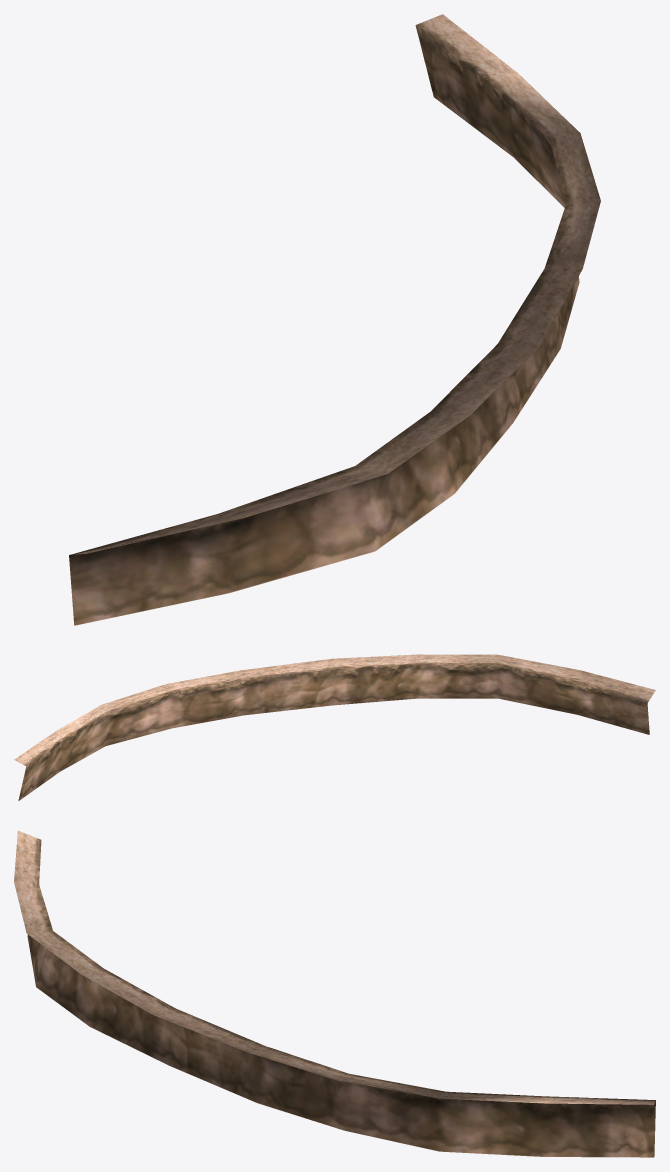
The model's file is EKH_ENTRANCE_PS_EN_EDGEGRAB48474039.fbx.
3 views of the same model, one above another, from view 1: azimuth 30°, elevation 25°; view 2: azimuth 150°, elevation 25°; view 3: azimuth 270°, elevation 25° (orthographic). The views are drawn at different scales.
Visible parts, largest first — view 1: EKH_ENTRANCE_PS_EN_EDGEGRAB48474039; view 2: EKH_ENTRANCE_PS_EN_EDGEGRAB48474039; view 3: EKH_ENTRANCE_PS_EN_EDGEGRAB48474039.
Boxes of the visible parts, left/top/right/bottom form: EKH_ENTRANCE_PS_EN_EDGEGRAB48474039: left=69, top=14, right=600, bottom=625; EKH_ENTRANCE_PS_EN_EDGEGRAB48474039: left=14, top=654, right=655, bottom=800; EKH_ENTRANCE_PS_EN_EDGEGRAB48474039: left=14, top=830, right=655, bottom=1157.
Bounding box in the file's own units: 48091 × 4543 × 47518.
1 material, 1 textured.
